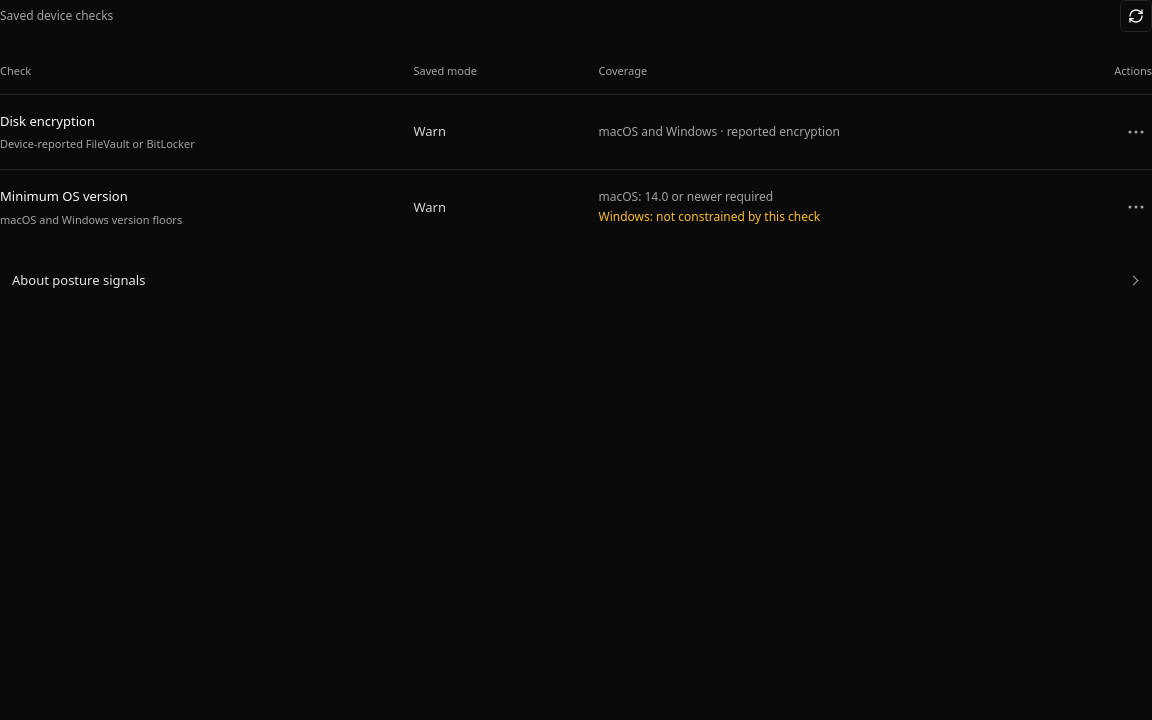
Test: Saved device posture policy › saves the exact OS floors without silently constraining an unset platform and reports real next-report impact
Click the button "Minimum OS version".
click(64, 196)  # box x1=0 y1=186 x2=377 y2=207
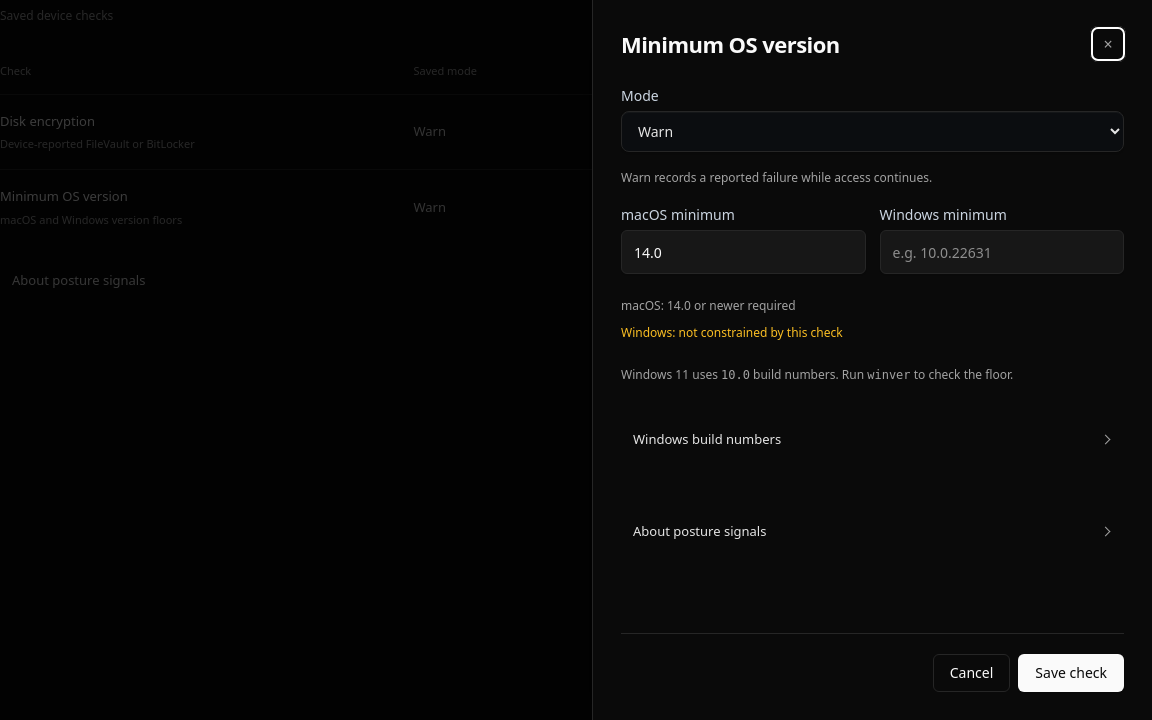
Select "Require" in the dropdown labelled "Mode" at x=872, y=132, box x1=621 y1=111 x2=1124 y2=152
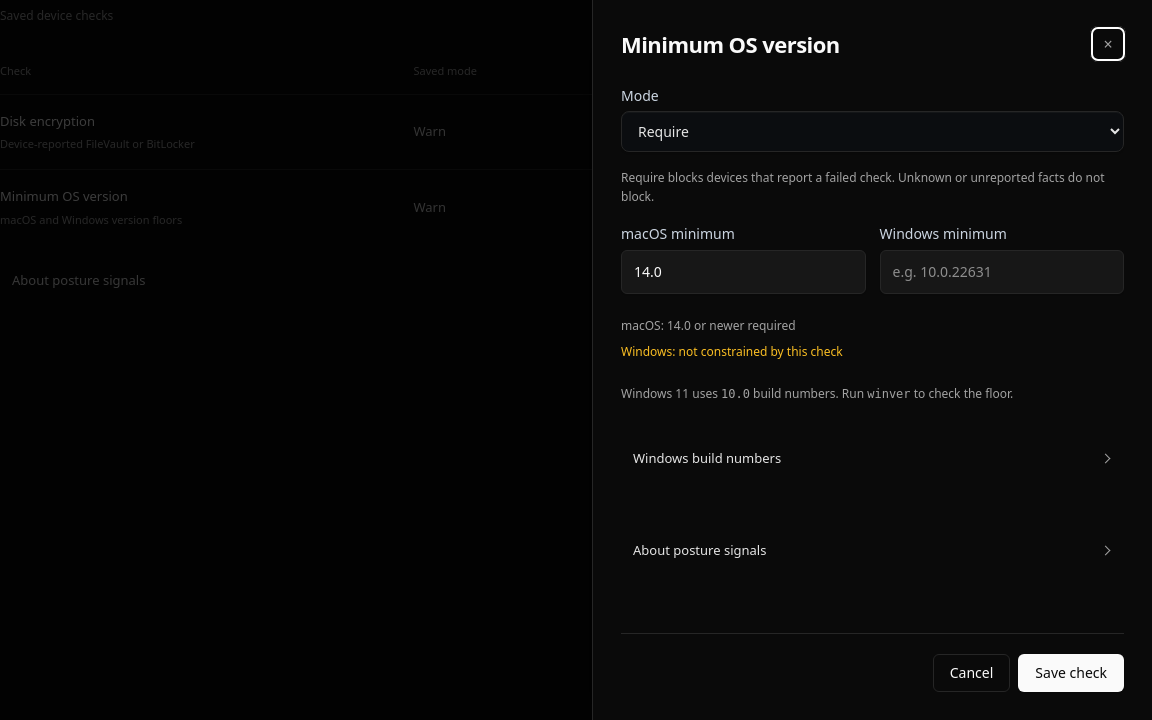
Replace the text in the field labelled "macOS minimum" with "15.0" at x=743, y=272, box x1=621 y1=250 x2=866 y2=294
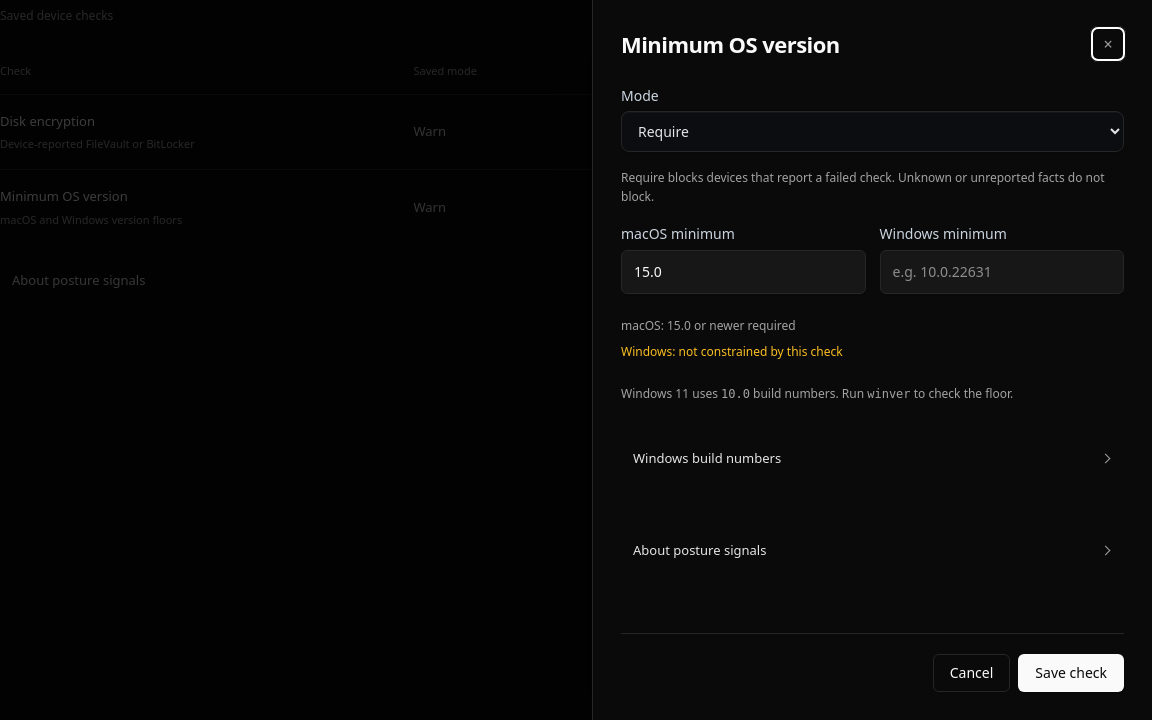
Expected: the list named "Draft platform coverage" shows "Windows: not constrained by this check", x1=621 y1=343 x2=843 y2=360
Click the button "Save check".
click(1071, 673)  # box x1=1018 y1=654 x2=1124 y2=692
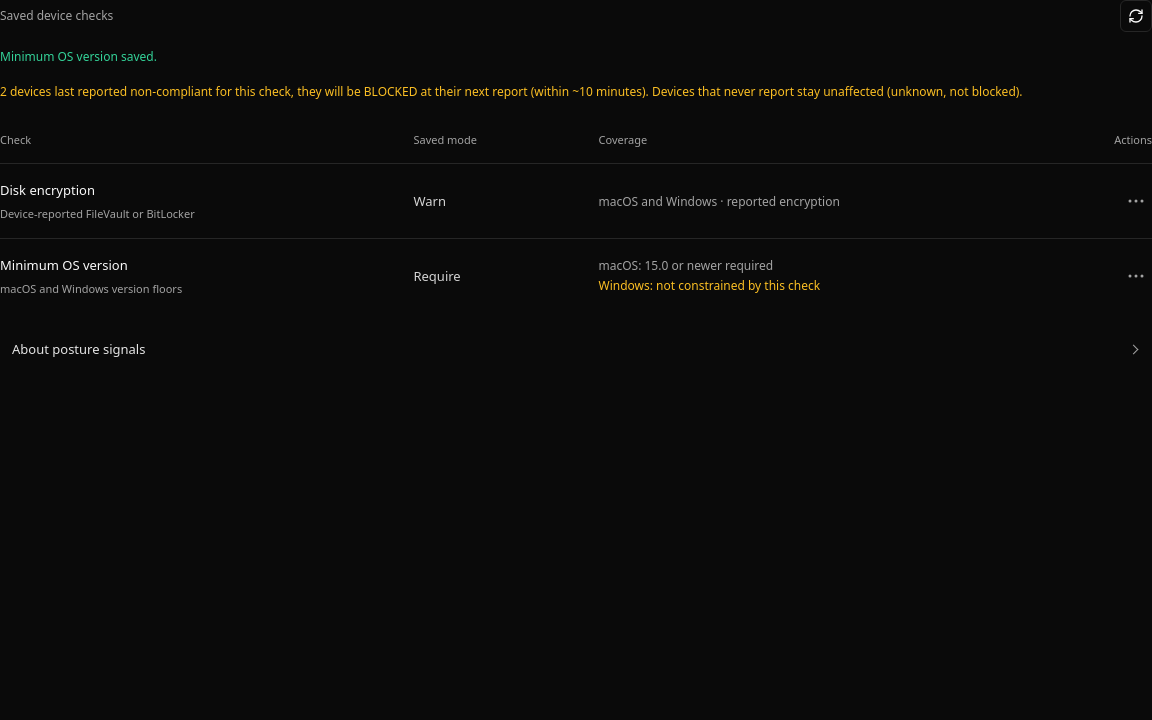
Expected: the text "Minimum OS version saved." is shown, x1=0 y1=48 x2=157 y2=65
Expected: the table named "Posture checks" shows "macOS: 15.0 or newer required", x1=598 y1=257 x2=773 y2=274
Expected: the text "BLOCK" is shown, x1=0 y1=83 x2=1023 y2=100
